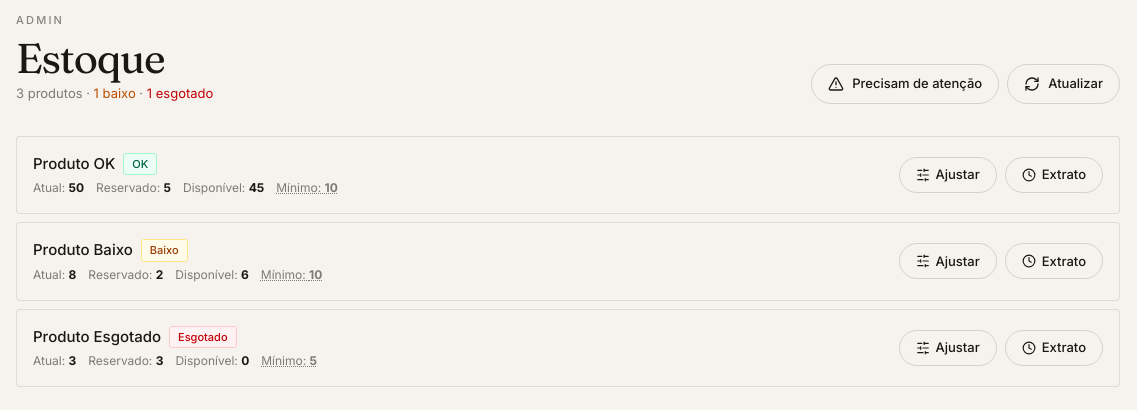
Scenario: StockManager — C3: feedback ao salvar o mínimo › falha ao salvar o mínimo mostra erro (antes o resultado era ignorado)
Click the button with test id "editar-min-p1" at (307, 188), box [276,179,338,197]
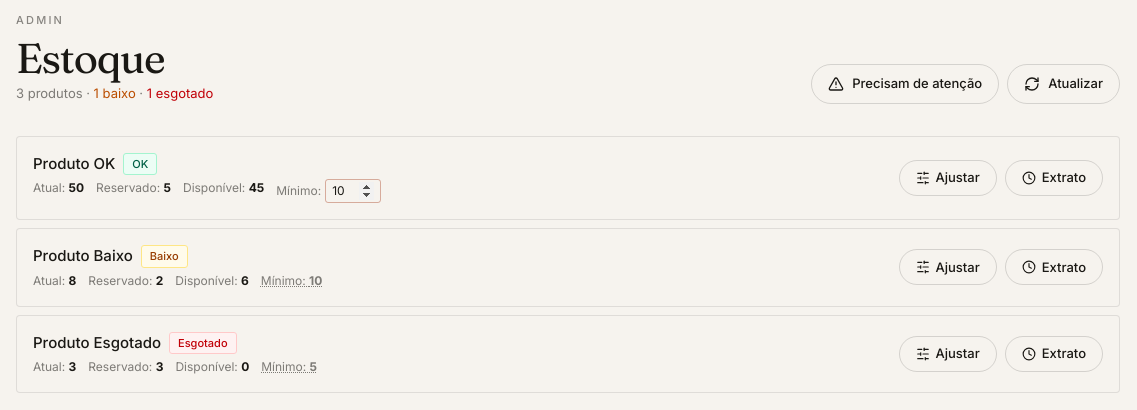
Replace the text in the number field with test id "input-min-p1" with "8" at (353, 191), box [325,179,381,203]
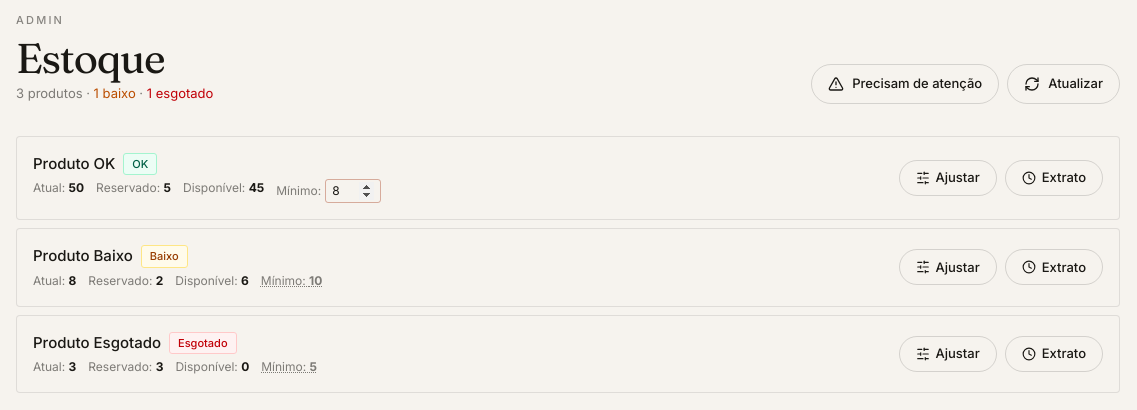
Leave the number field with test id "input-min-p1", box [325,179,381,203]
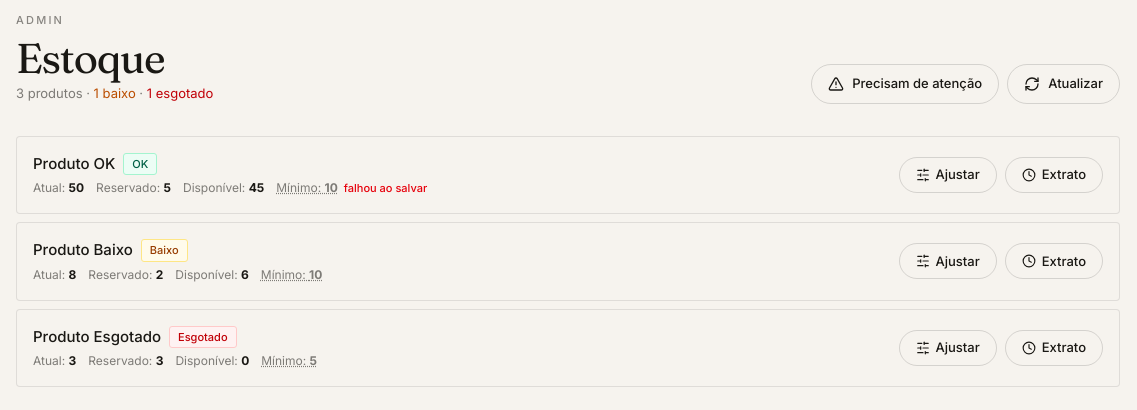
expect the text "falhou ao salvar" is shown: met, box [344,180,427,196]
